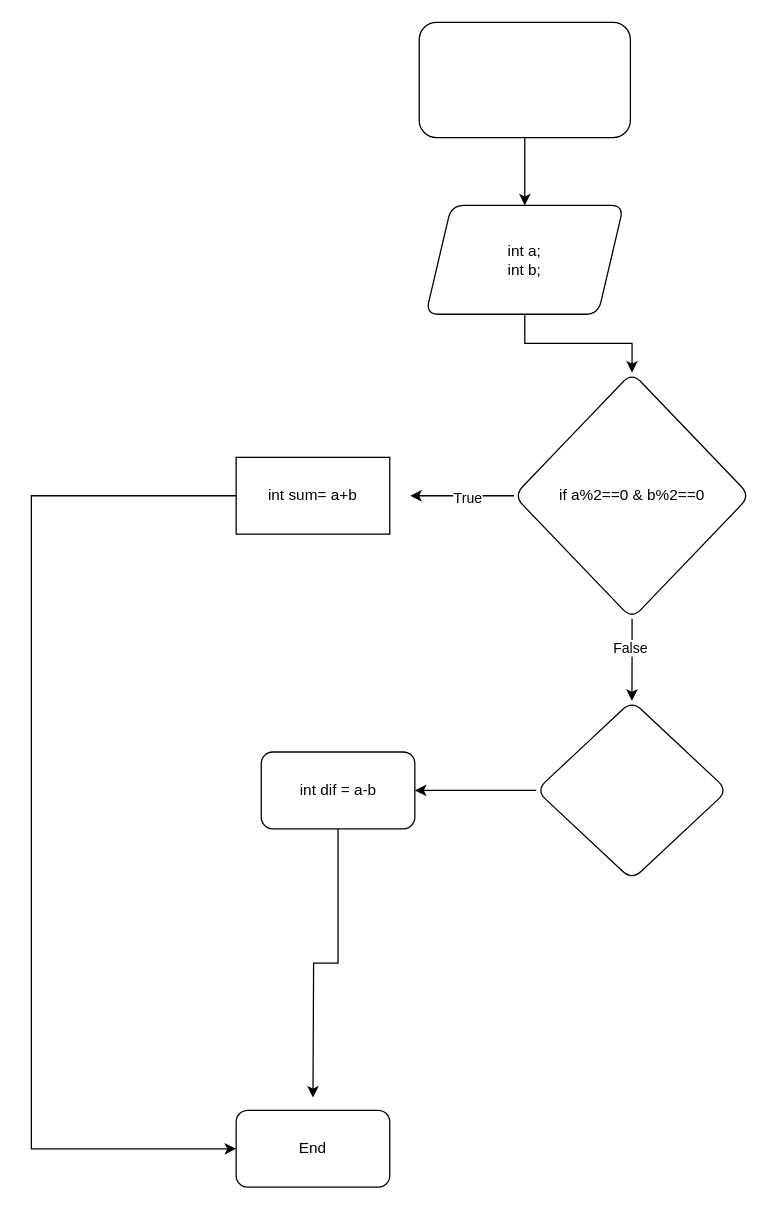
The diagram is 773 pixels wide and 1210 high, and some of its shapes have lost their labels. Each missing label, with the centre of its shape:
if a%2==0 || b%2==0: the point at 631,790
Start: the point at 524,79
